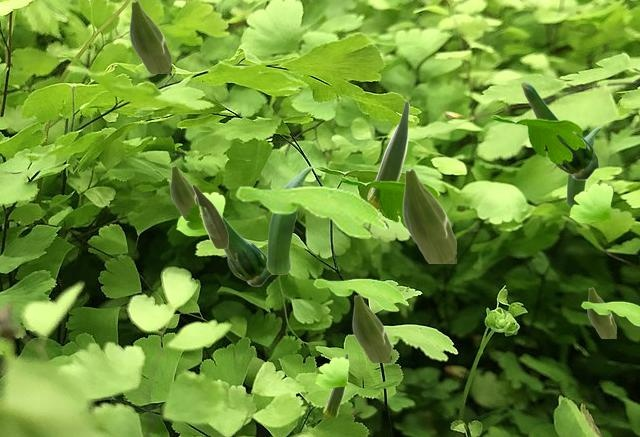okra: (520, 81, 598, 179), (402, 168, 455, 262), (266, 166, 311, 273), (367, 100, 408, 207), (222, 218, 271, 285), (129, 0, 170, 72), (566, 126, 600, 207), (352, 294, 390, 361), (192, 184, 227, 247), (323, 353, 347, 416), (170, 165, 196, 219), (587, 287, 615, 337)
